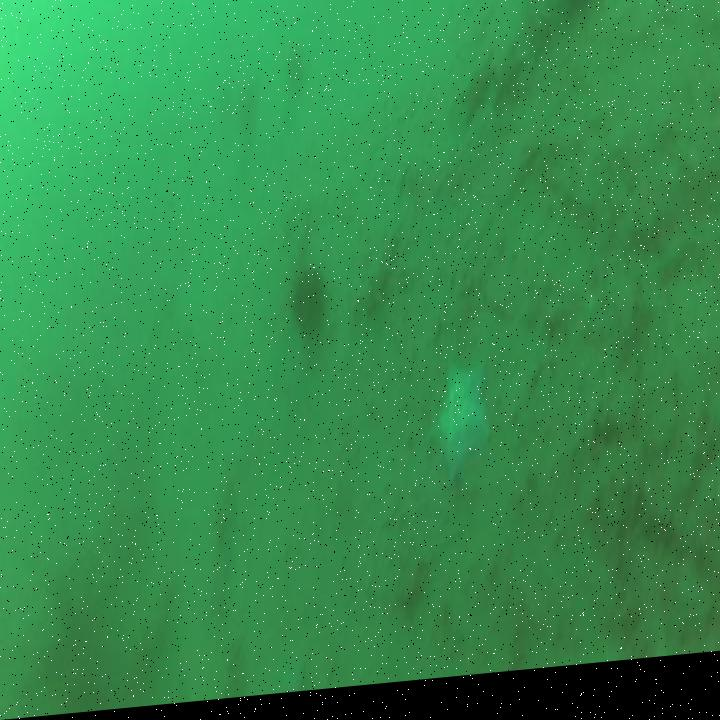echinus: (292, 283, 327, 349)
holothurian: (354, 244, 394, 330)
starfish: (433, 371, 492, 493), (558, 0, 606, 20)
